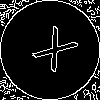X: (25, 25, 80, 81)
